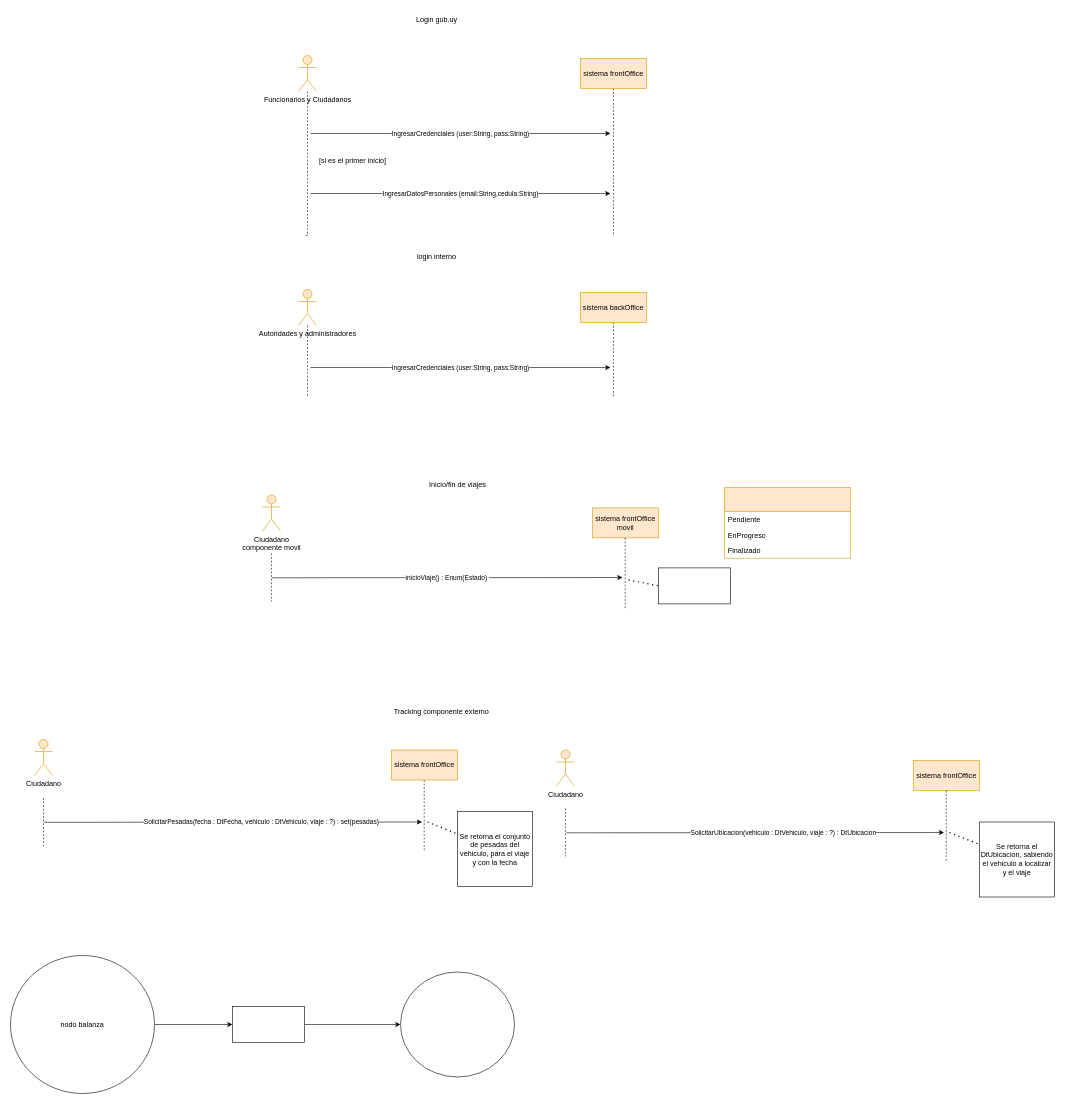
Image size: 1065x1104. Some labels were removed from this diagram. The shapes that lost their labels are listed below. From the top down, each one's box as (x1, y1, x2, y2) in pixels, then its label:
(724, 487, 850, 558): <Enum> Estado
(658, 567, 730, 604): Cambia el estado del viaje a EnProgreso
(232, 1006, 304, 1042): mensaje
